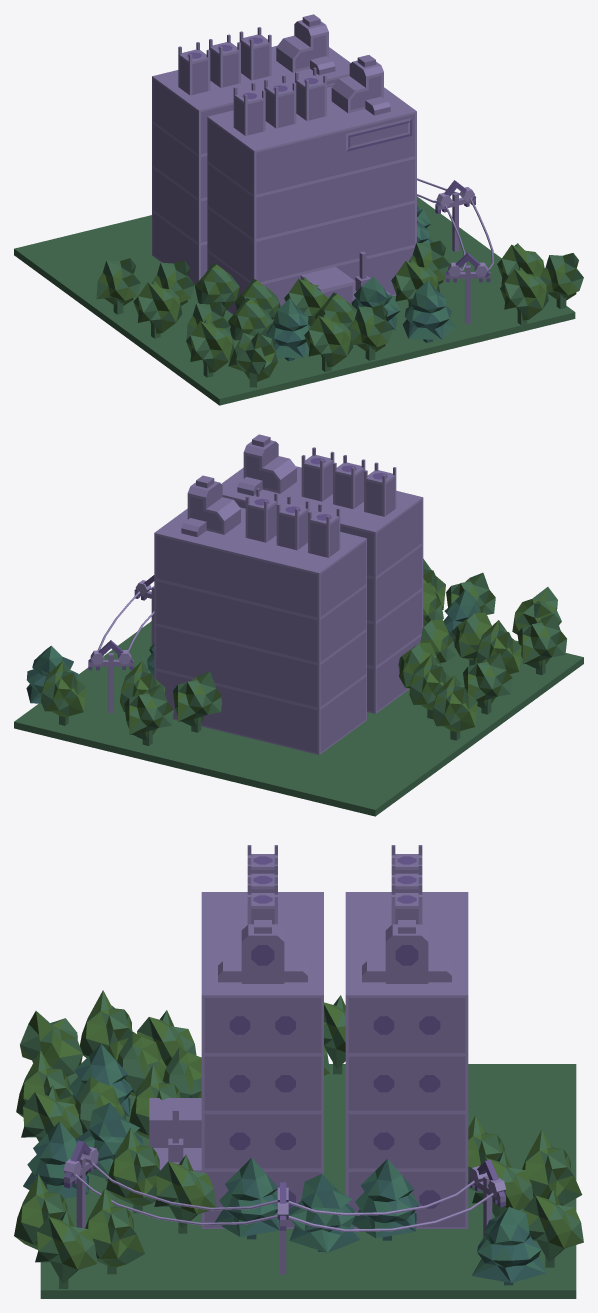
Rendered from Factory.fbx.
The picture shows the model from 3 angles, top to bottom: view 1: azimuth 30°, elevation 25°; view 2: azimuth 150°, elevation 25°; view 3: azimuth 270°, elevation 25°; orthographic projection. The views are drawn at different scales.
Parts seen in each view (by area): view 1: Factory, Factory(Ground); view 2: Factory, Factory(Ground); view 3: Factory(Ground), Factory.
Boxes of the visible parts, x1,y1,x2,y2 form: Factory: [152, 14, 416, 321]; Factory(Ground): [14, 178, 583, 405]; Factory: [154, 434, 423, 754]; Factory(Ground): [14, 559, 583, 816]; Factory(Ground): [14, 990, 583, 1298]; Factory: [149, 845, 468, 1228].
Size of the model in its own units: 184 by 106 by 185.
